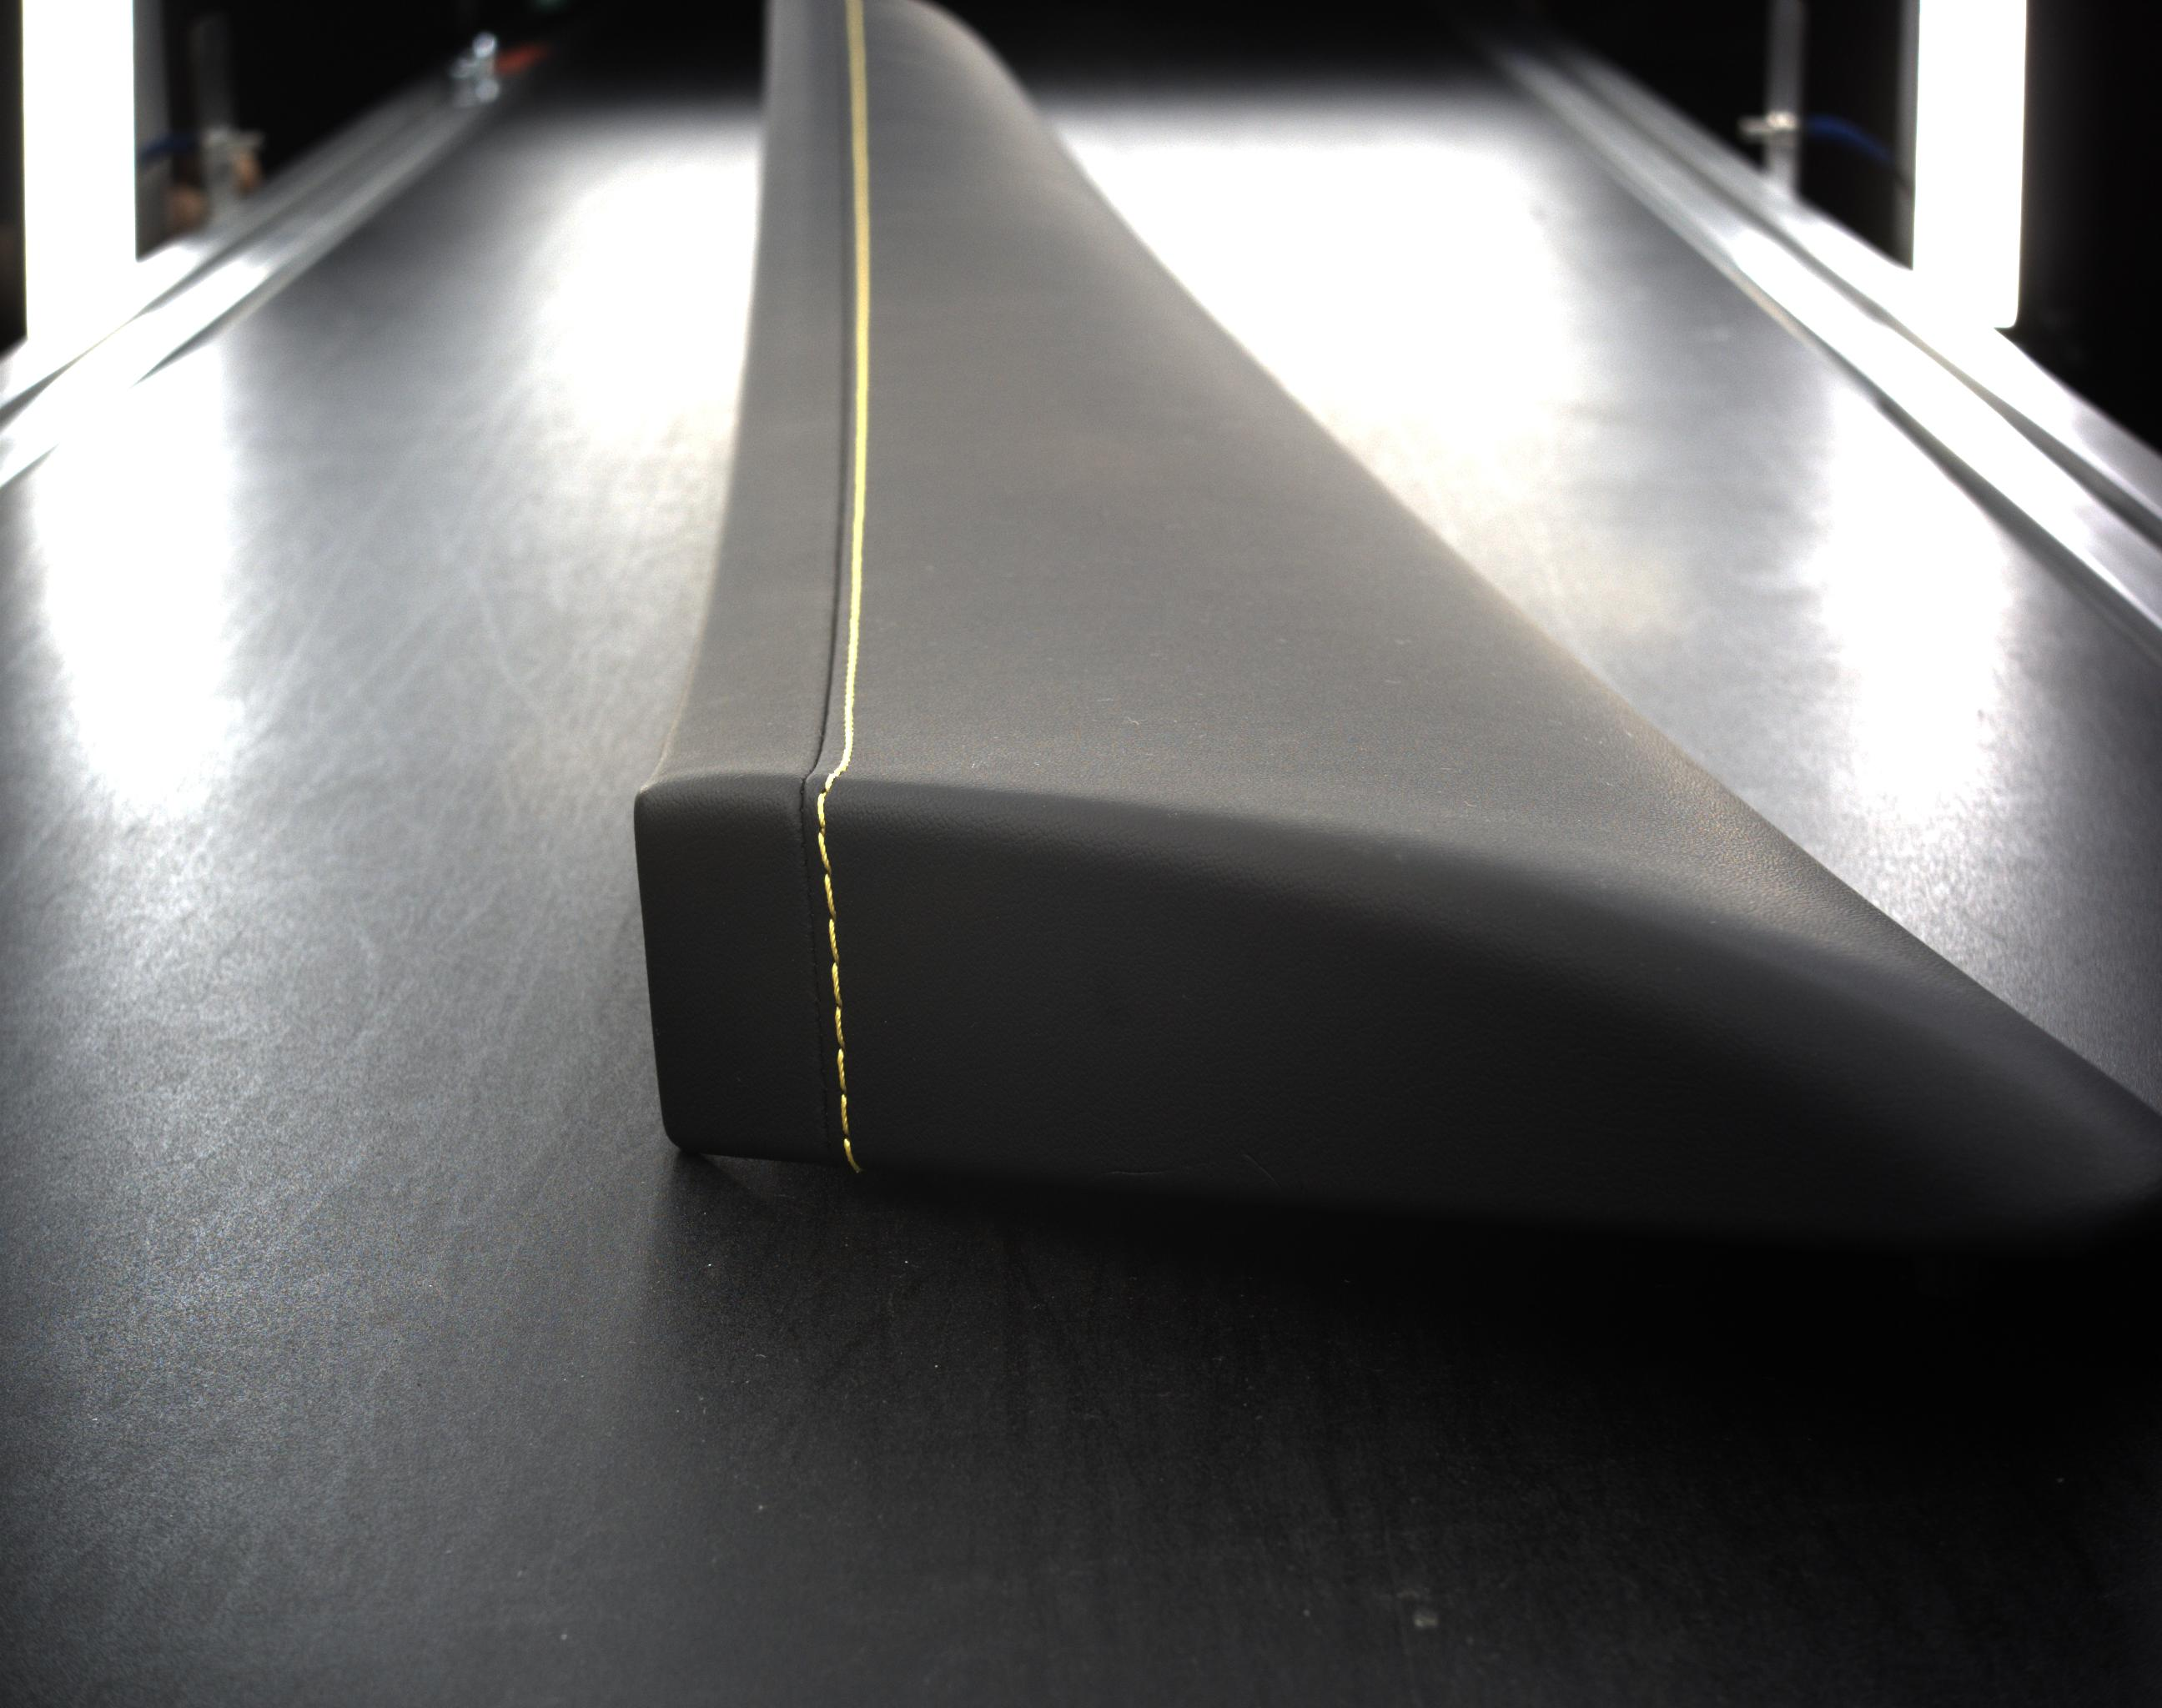vline: (821, 872, 839, 915), (814, 832, 832, 872), (827, 918, 842, 960), (828, 964, 844, 1004), (814, 790, 828, 829), (832, 1008, 846, 1044), (835, 1048, 848, 1088), (837, 1094, 849, 1130)
